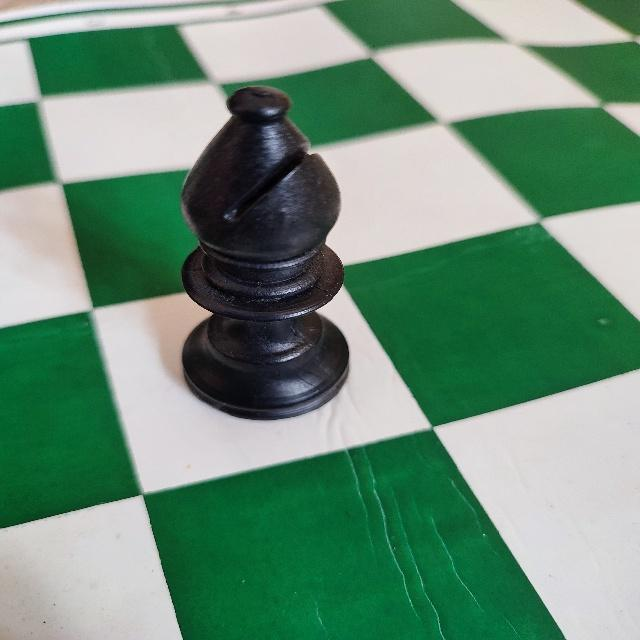Bishop: (175, 84, 352, 423)
